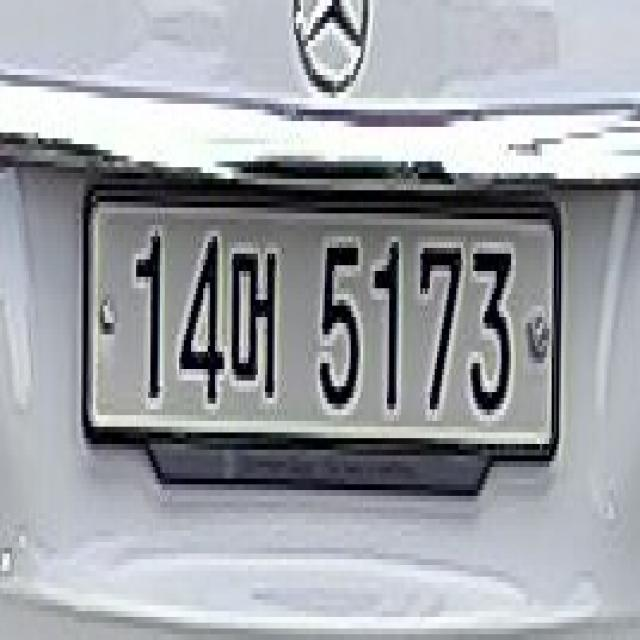1: (366, 219, 414, 427), (127, 208, 172, 415)
3: (466, 225, 523, 432)
4: (174, 219, 230, 415)
5: (313, 219, 368, 427)
7: (411, 230, 468, 427)
license_plate: (79, 179, 564, 513)
meo: (229, 225, 289, 421)
